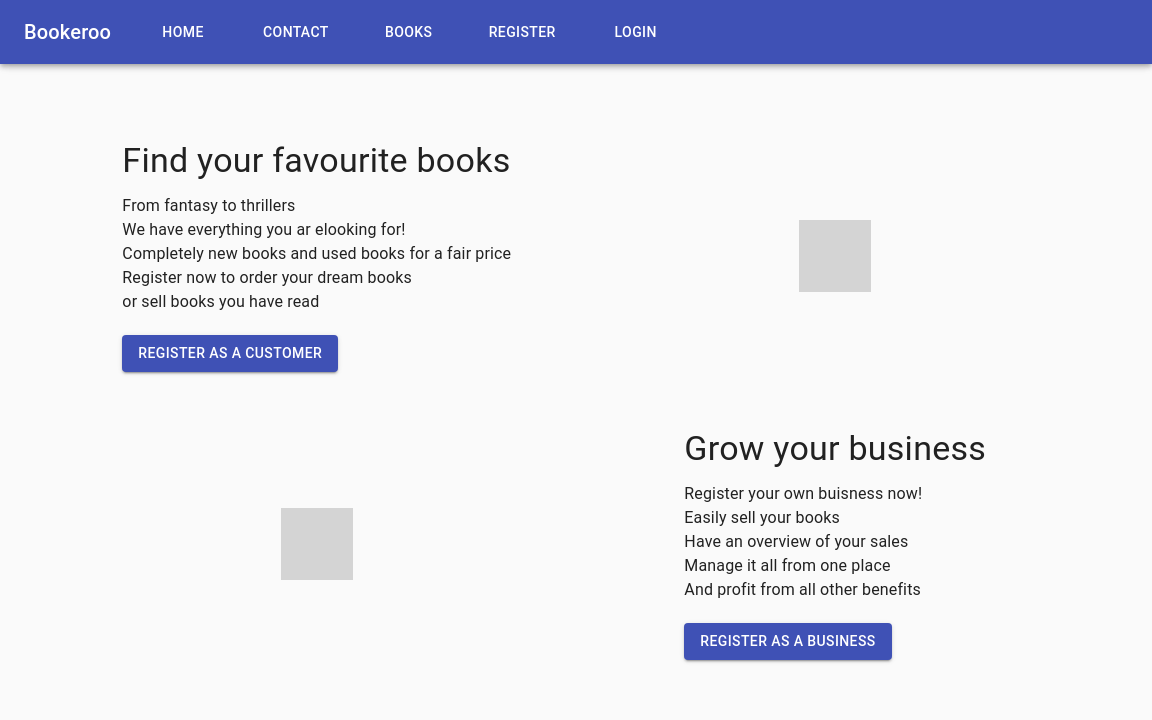
Test: Home › Buttons › Button "Register as a Customer" should redirect to /register
Click the button "Register as a Customer": (230, 354) [122, 336, 338, 372]
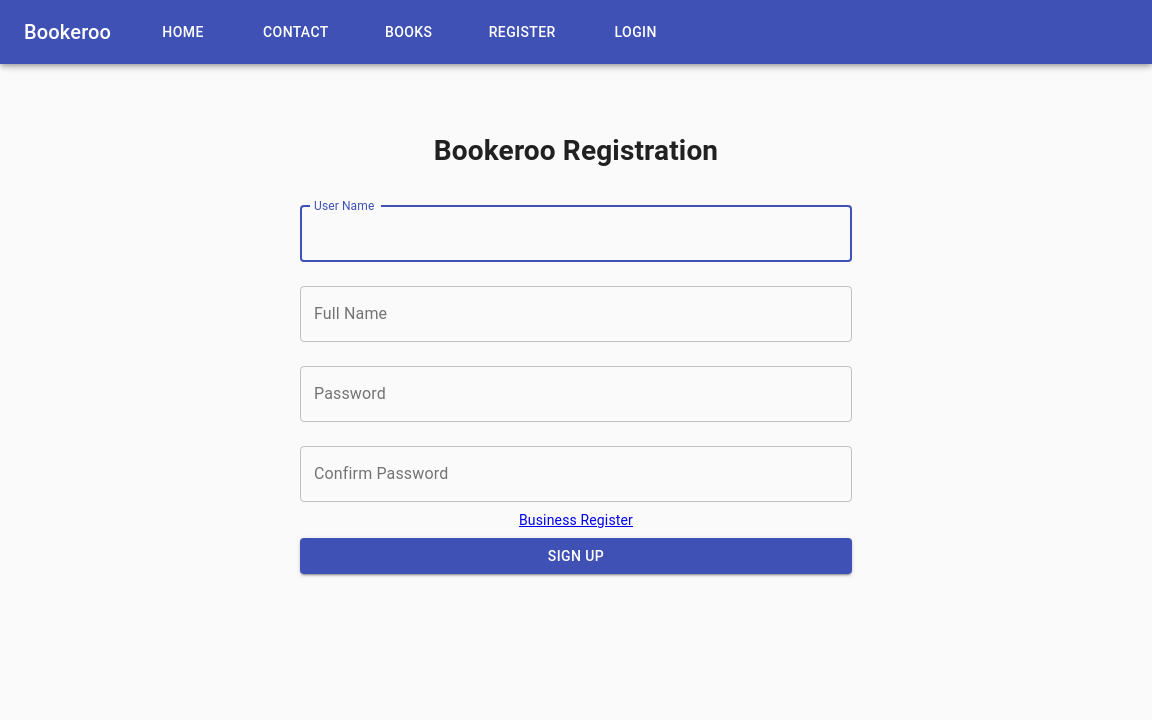
Expected: the heading "Bookeroo Registration" is shown, [434, 134, 718, 167]
